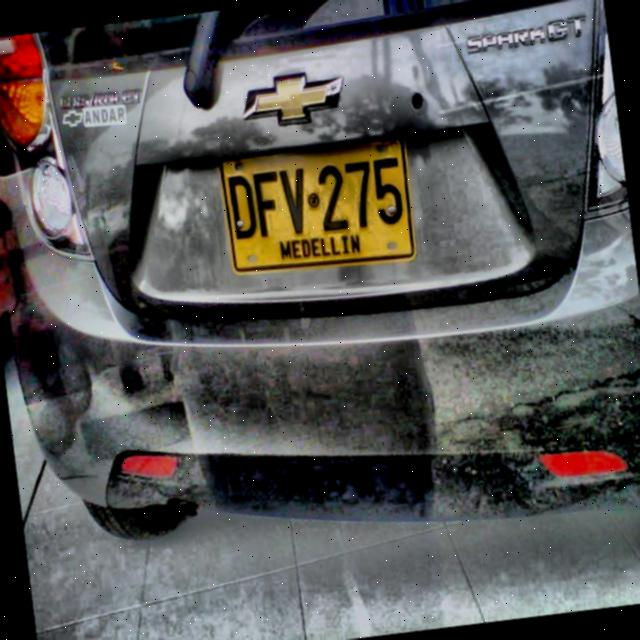plate: (220, 138, 413, 271)
